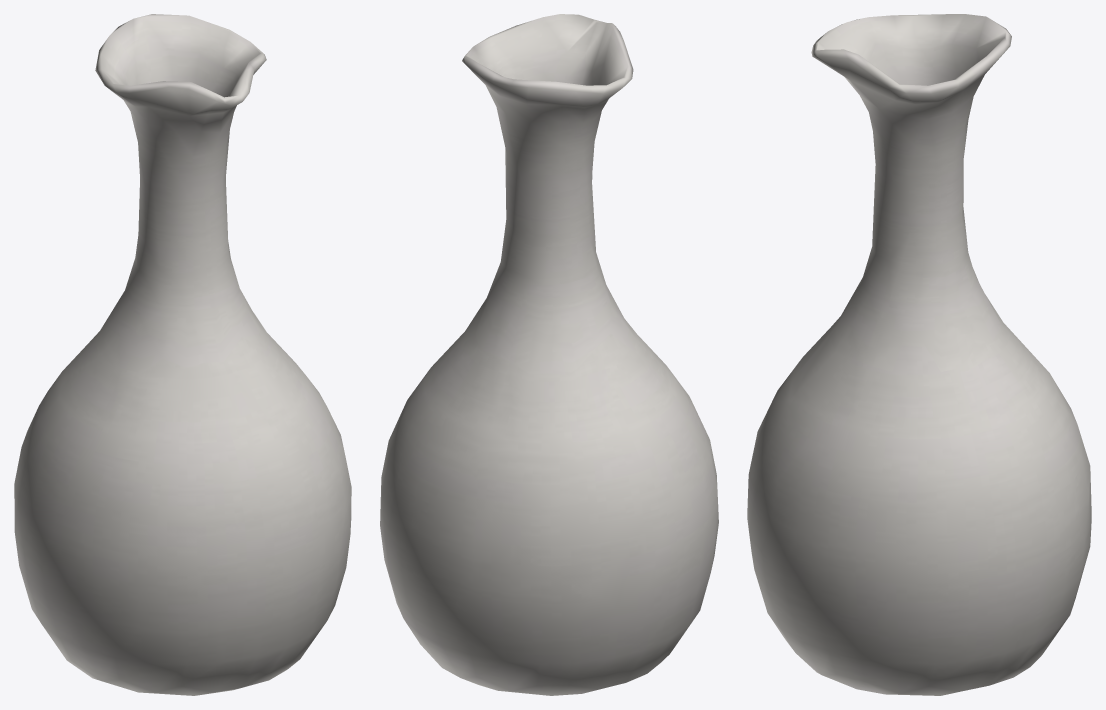
File: ceramic_vase_01.glb
The picture shows the model from 3 angles, left to right: view 1: azimuth 30°, elevation 25°; view 2: azimuth 150°, elevation 25°; view 3: azimuth 270°, elevation 25°; orthographic projection. The views are drawn at different scales.
Visible parts, largest first — view 1: lod0; view 2: lod0; view 3: lod0.
Boxes of the visible parts, x1=… form: lod0: x1=14, y1=14, x2=351, y2=695; lod0: x1=380, y1=14, x2=718, y2=695; lod0: x1=747, y1=14, x2=1091, y2=695.
Size of what is drawn, in the model's own units: 0.2034 by 0.4003 by 0.2034.
1 material, 1 textured.
